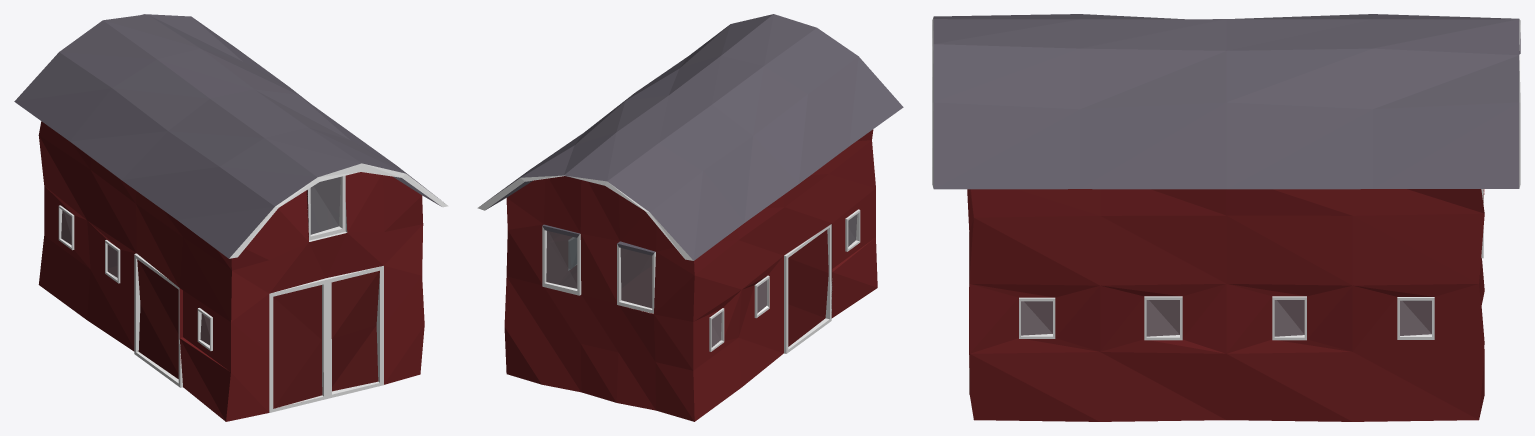
The model's file is SM_barn_AN.fbx.
3 views of the same model, side by side, from view 1: azimuth 30°, elevation 25°; view 2: azimuth 150°, elevation 25°; view 3: azimuth 270°, elevation 25° (orthographic). The views are drawn at different scales.
Parts seen in each view (by area): view 1: pCube1; view 2: pCube1; view 3: pCube1.
Part boxes in pixels (bbox=[...]): pCube1: bbox=[14, 14, 448, 421]; pCube1: bbox=[477, 14, 903, 421]; pCube1: bbox=[932, 14, 1520, 421].
Size of the model in its own units: 269 by 279 by 455.
